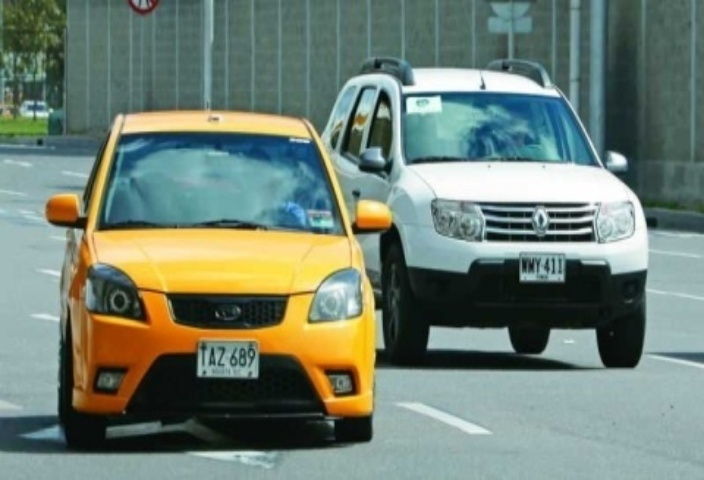camper: (305, 53, 663, 364)
taxi: (44, 102, 394, 433)
